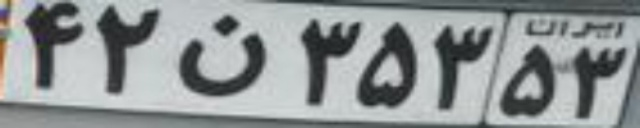2: (97, 4, 162, 95)
3: (294, 17, 362, 108), (428, 24, 493, 111), (568, 44, 626, 120)
4: (23, 2, 91, 91)
5: (358, 21, 415, 110), (495, 40, 558, 116)
non: (176, 13, 269, 96)
